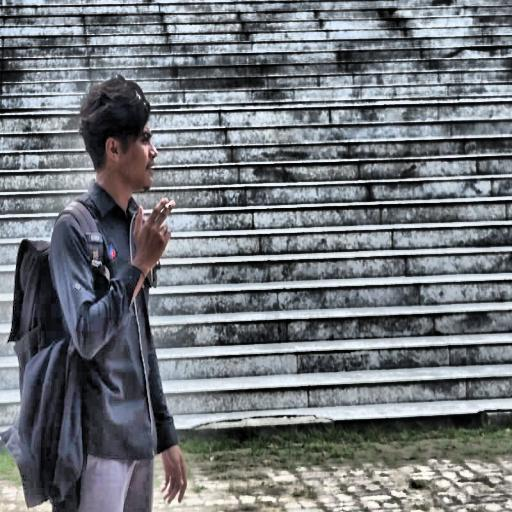Merokok: (97, 122, 157, 207), (132, 197, 175, 275)
